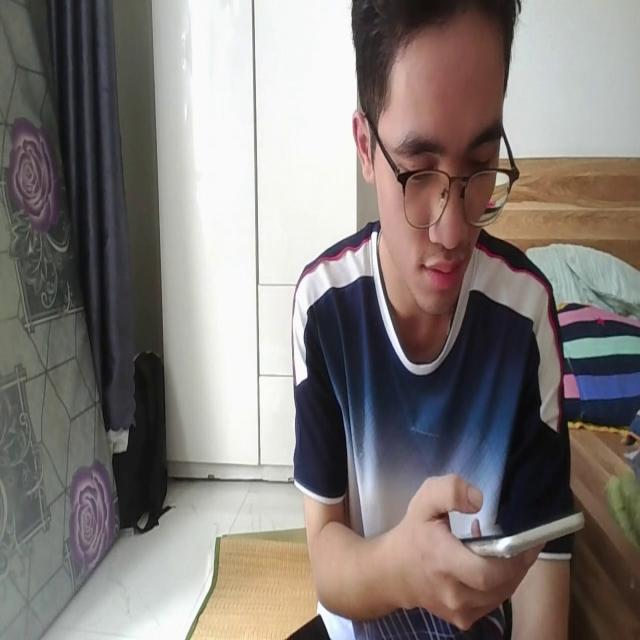phone: (443, 492, 588, 568)
student: (280, 6, 586, 640)
